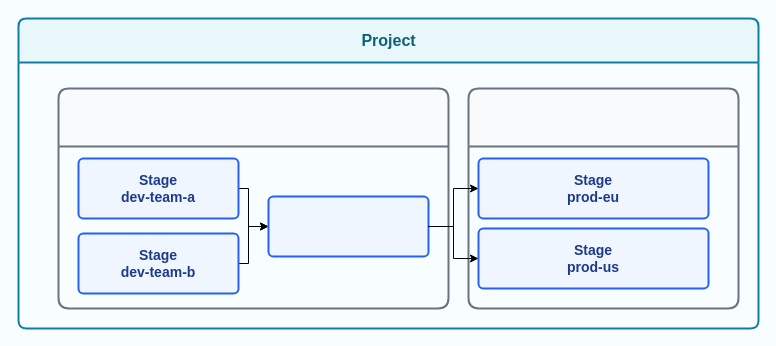
The diagram is 776 pixels wide and 346 high, and some of its shapes have lost their labels. Each missing label, with the box of its shape:
Landscape development: (57, 87, 449, 309)
Landscape production: (467, 87, 739, 309)
Stage dev-integration: (267, 195, 429, 257)
